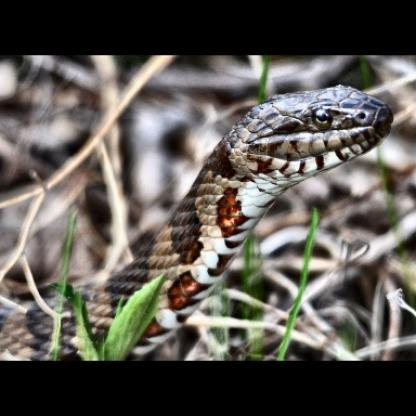Snake: (6, 68, 416, 343), (187, 66, 416, 220)
